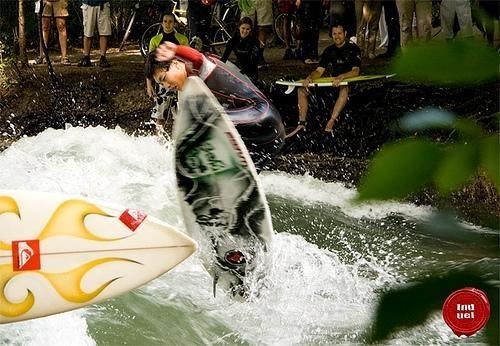bicycle: (137, 0, 237, 59), (271, 11, 298, 48)
